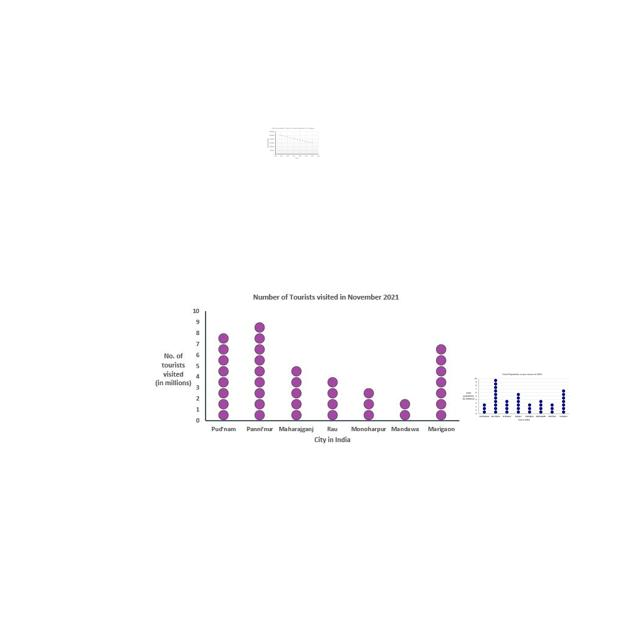Graph: (151, 291, 460, 447), (462, 372, 570, 422), (267, 127, 320, 159)
